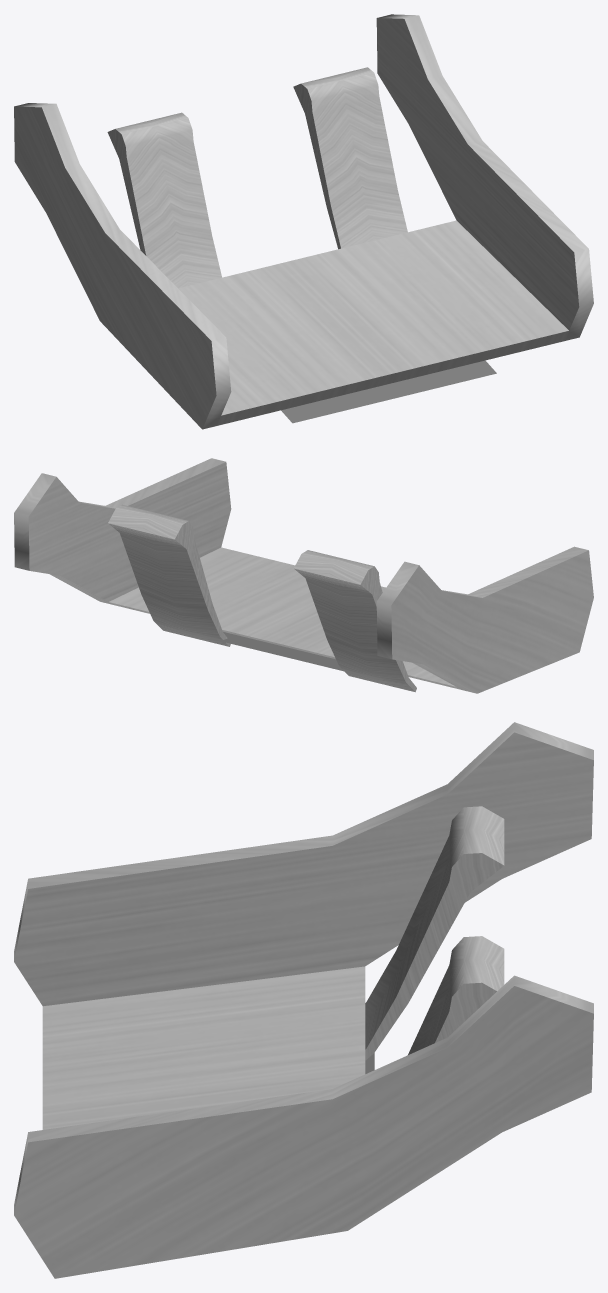
File: Buckle.obj
The picture shows the model from 3 angles, top to bottom: view 1: azimuth 30°, elevation 25°; view 2: azimuth 150°, elevation 25°; view 3: azimuth 270°, elevation 25°; orthographic projection. The views are drawn at different scales.
Parts seen in each view (by area): view 1: Buckle:Buckle Buckle1 group4, group4 PlaceHolder; view 2: Buckle:Buckle Buckle1 group4, group4 PlaceHolder; view 3: Buckle:Buckle Buckle1 group4.
Boxes of the visible parts, x1,y1,x2,y2 form: Buckle:Buckle Buckle1 group4: (14,14,593,429); group4 PlaceHolder: (281,360,496,423); Buckle:Buckle Buckle1 group4: (14,458,593,693); group4 PlaceHolder: (177,629,384,680); Buckle:Buckle Buckle1 group4: (14,722,593,1278).
Size of the model in its own units: 1.84 by 1.01 by 1.71.
Materials: 2 (1 with a texture image).
